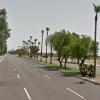Palm tree: (39, 24, 74, 58)
